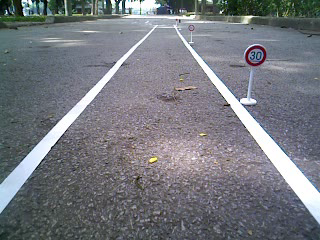limit 30: (241, 44, 269, 70)
